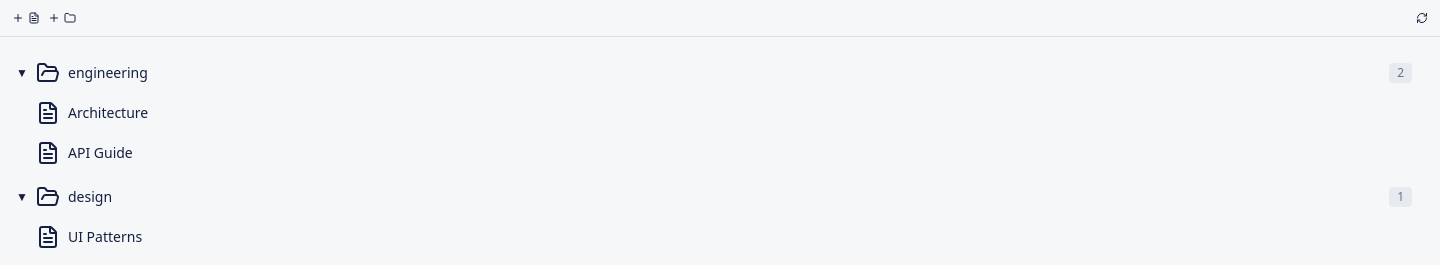
Test: DocumentTree › expand and collapse › collapses folder when clicked and hides children
Expected: the text "Architecture" is shown, [68,103,148,122]
Click the engineering folder to collapse it
Click the text "engineering": (108, 72) [68,63,148,82]
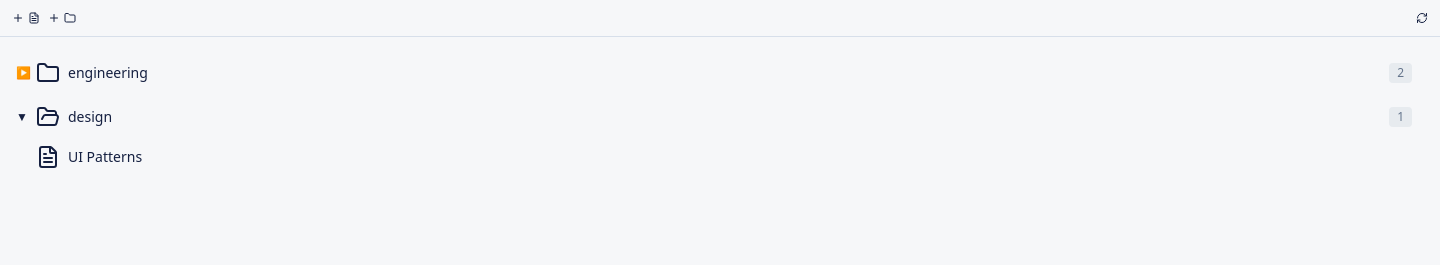
Expected: the button "Architecture" is gone
Expected: the button "API Guide" is gone
